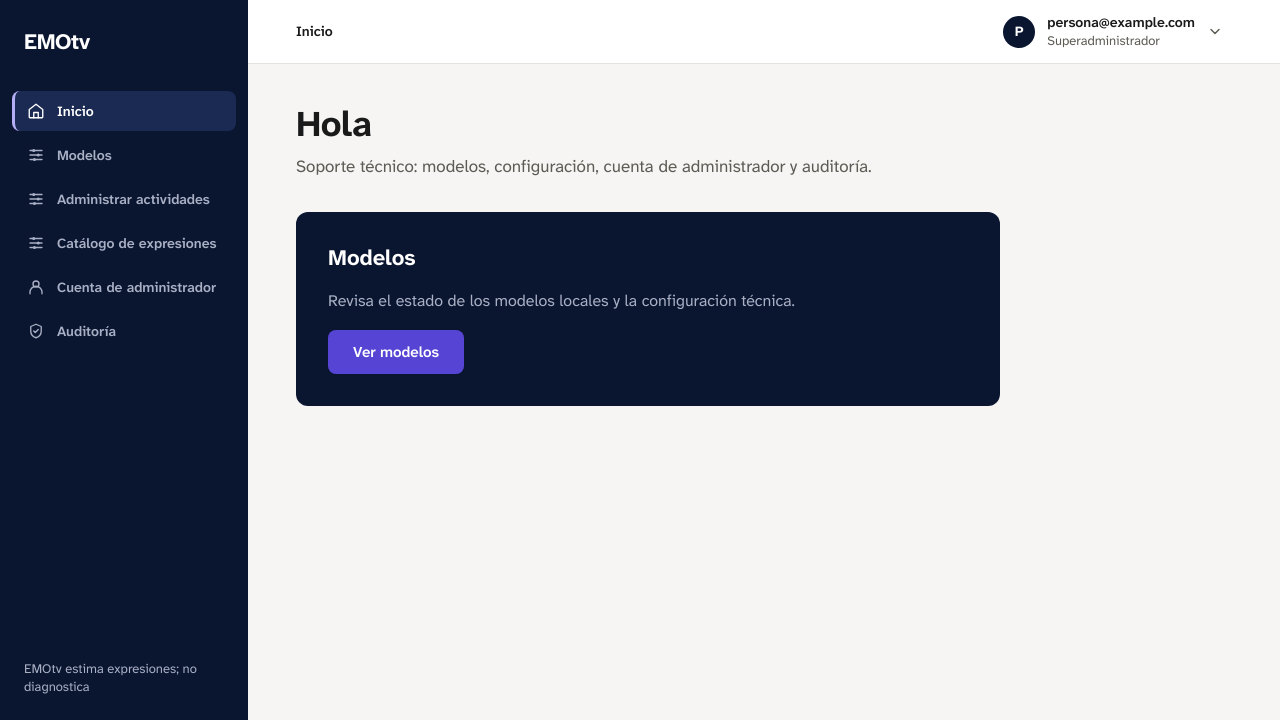
Scenario: recorridos principales por rol › lleva al superadministrador a las actividades administrables
The width and height of the screenshot is (1280, 720).
Click the link to "/admin/activities" at (118, 199), box top-left (27, 190), bottom-right (210, 208)
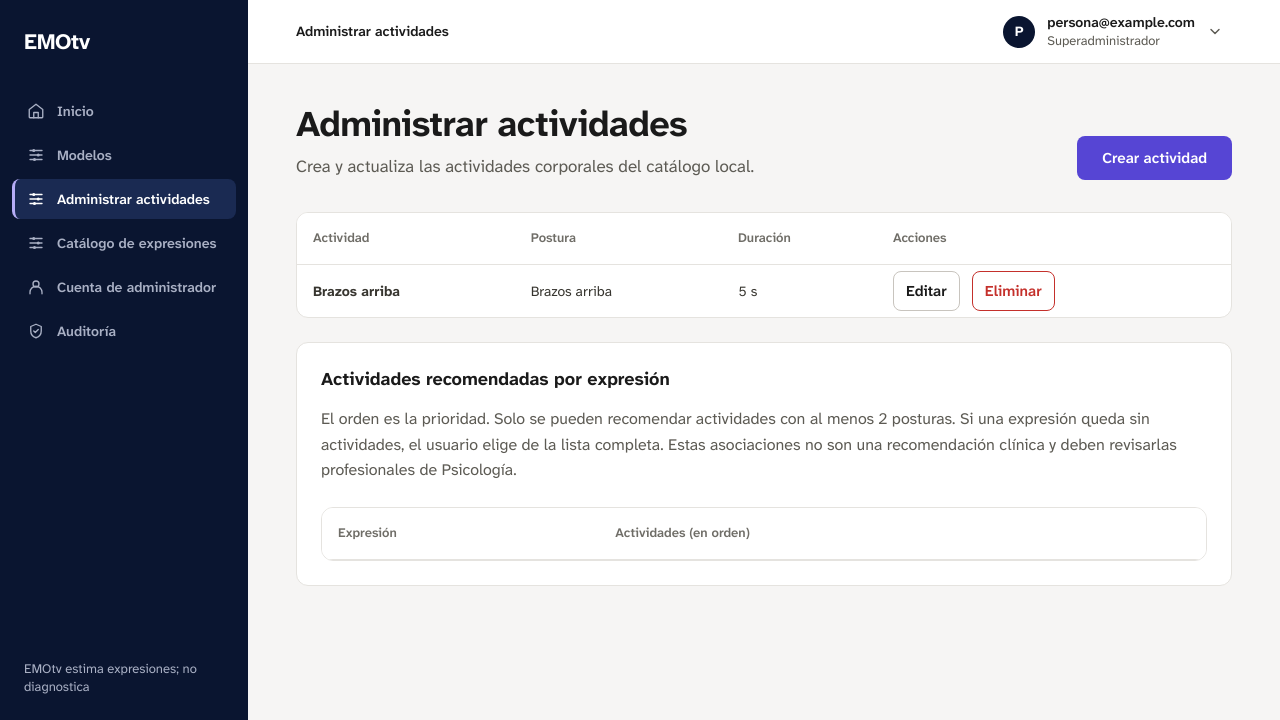
Check: the heading "Administrar actividades" is shown, box top-left (296, 104), bottom-right (754, 145)
Check: the button "Crear actividad" is shown, box top-left (1077, 136), bottom-right (1232, 180)
